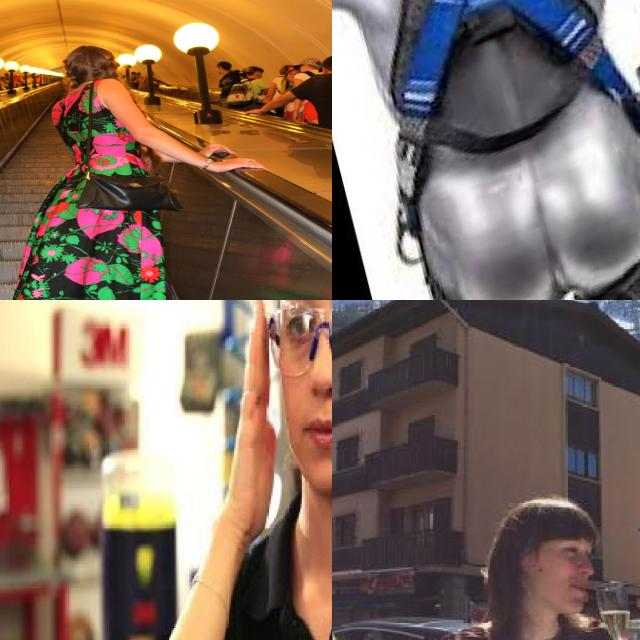Harness: (392, 0, 632, 120)
face_nomask: (277, 309, 332, 464), (534, 536, 598, 610)
glasses: (264, 300, 332, 384)
hand_noglove: (233, 300, 280, 531)
head_nohelmet: (496, 488, 601, 535)
person: (184, 300, 332, 640)
